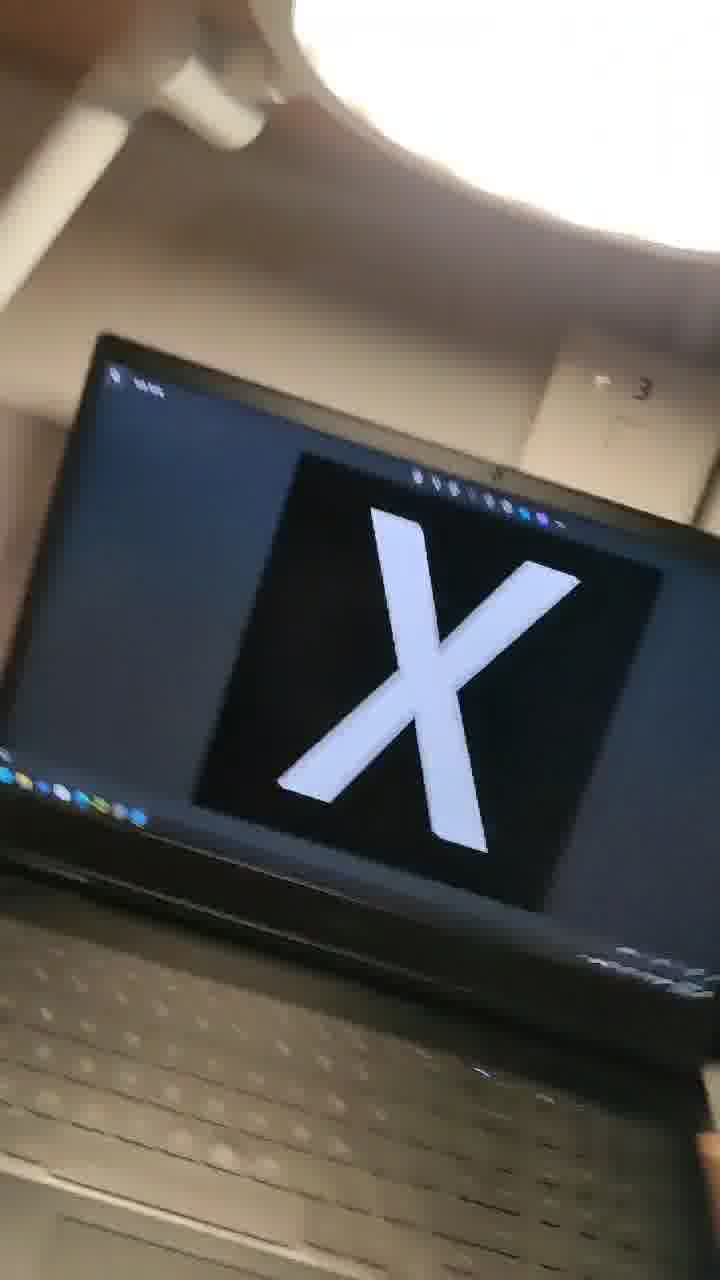X: (268, 481, 615, 912)
